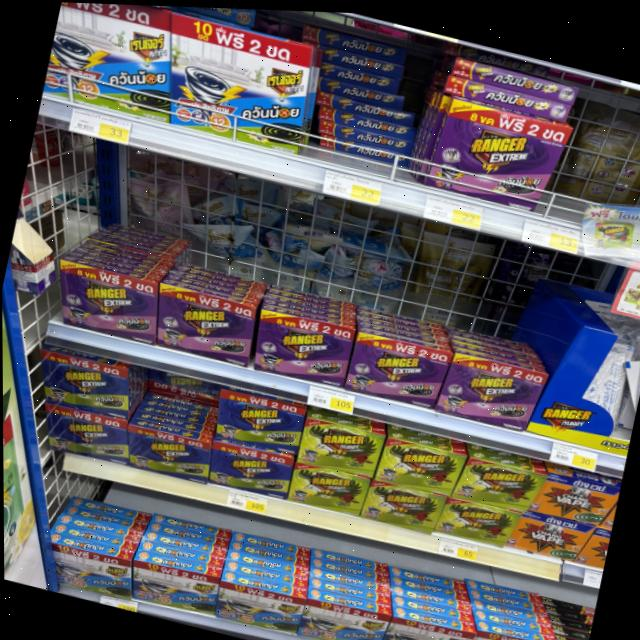empty_shelf: (298, 24, 434, 182), (554, 97, 640, 235)
